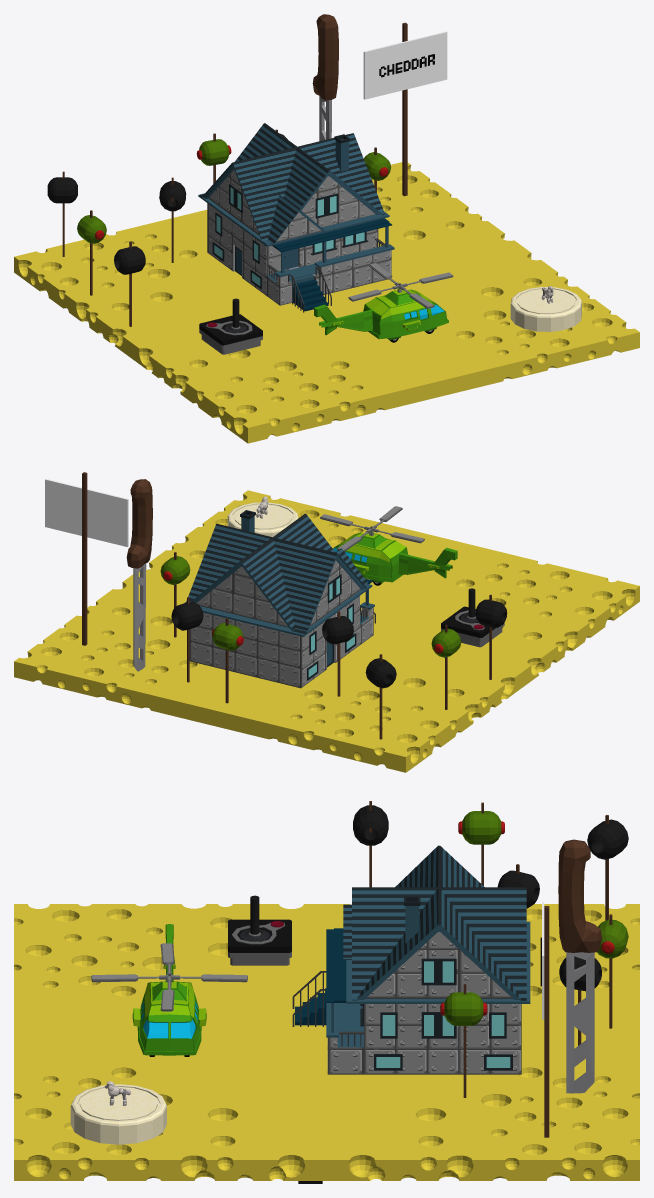
The picture shows the model from 3 angles, top to bottom: view 1: azimuth 30°, elevation 25°; view 2: azimuth 150°, elevation 25°; view 3: azimuth 270°, elevation 25°; orthographic projection. The views are drawn at different scales.
Parts seen in each view (by area): view 1: Cube.022, Cube.078, Cube.023, VEHICLES_HELICOPTER, Cylinder.016, Cube.024, OBJRANDOM_JOYSTICK, Sphere.017, Sphere.016, Sphere.020, Sphere.018, Sphere.022 (+1 smaller); view 2: Cube.022, Cube.078, Cube.023, VEHICLES_HELICOPTER, Cube.024, Cylinder.016, OBJRANDOM_JOYSTICK, Sphere.020, Sphere.016, Sphere.022, Sphere.017, Sphere.021 (+2 smaller); view 3: Cube.022, Cube.078, Cube.024, VEHICLES_HELICOPTER, Cylinder.016, OBJRANDOM_JOYSTICK, Cube.023, Sphere.019, Sphere.016, Sphere.018, Sphere.017, Sphere.022 (+2 smaller).
Boxes of the visible parts, x1,y1,x2,y2 form: Cube.022: [14, 162, 639, 443]; Cube.078: [198, 123, 394, 312]; Cube.023: [363, 22, 447, 196]; VEHICLES_HELICOPTER: [314, 263, 453, 342]; Cylinder.016: [510, 287, 581, 331]; Cube.024: [312, 14, 338, 141]; OBJRANDOM_JOYSTICK: [199, 298, 262, 354]; Sphere.017: [114, 241, 145, 326]; Sphere.016: [47, 171, 77, 256]; Sphere.020: [159, 177, 186, 262]; Sphere.018: [77, 210, 106, 295]; Sphere.022: [196, 133, 231, 183]; Cube.022: [14, 490, 639, 772]; Cube.078: [185, 510, 375, 688]; Cube.023: [45, 472, 128, 645]; VEHICLES_HELICOPTER: [320, 506, 457, 585]; Cube.024: [126, 479, 152, 671]; Cylinder.016: [227, 502, 298, 537]; OBJRANDOM_JOYSTICK: [441, 588, 504, 647]; Sphere.020: [322, 611, 353, 696]; Sphere.016: [365, 654, 396, 739]; Sphere.022: [212, 618, 243, 703]; Sphere.017: [475, 594, 507, 679]; Sphere.021: [171, 597, 203, 682]; Cube.022: [14, 904, 639, 1180]; Cube.078: [292, 845, 530, 1074]; Cube.024: [558, 839, 601, 1093]; VEHICLES_HELICOPTER: [91, 924, 247, 1056]; Cylinder.016: [70, 1084, 166, 1144]; OBJRANDOM_JOYSTICK: [228, 895, 291, 965]; Cube.023: [540, 902, 549, 1137]; Sphere.019: [440, 984, 487, 1097]; Sphere.016: [587, 815, 628, 920]; Sphere.018: [458, 802, 504, 885]; Sphere.017: [353, 801, 388, 887]; Sphere.022: [597, 914, 628, 1028].
Bounding box in the file's own units: 3917 × 2015 × 4000.
Materials: 37 (5 with a texture image).
